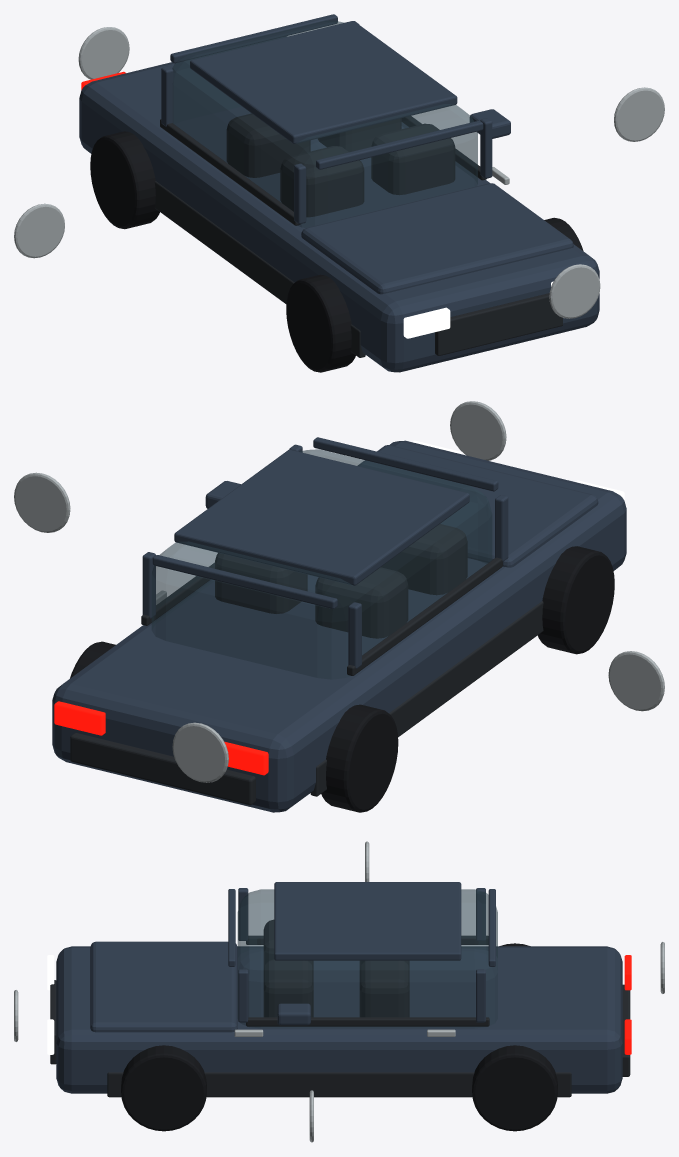
File: premium-sedan.glb
3 renders of one model, top to bottom at view 1: azimuth 30°, elevation 25°; view 2: azimuth 150°, elevation 25°; view 3: azimuth 270°, elevation 25°, orthographic. The views are drawn at different scales.
Visible parts, largest first — view 1: BATCH_01_MAT_CarPaint_premium-sedan, BATCH_00_MAT_BlackMetal, BATCH_03_MAT_Glass, wheel_rear_L.004, wheel_front_L.004, hub_front_L.004, hub_front_R.004, hub_rear_L.004, hub_rear_R.004, BATCH_05_MAT_WhiteLight; view 2: BATCH_01_MAT_CarPaint_premium-sedan, BATCH_03_MAT_Glass, BATCH_00_MAT_BlackMetal, wheel_front_L.004, wheel_rear_L.004, hub_rear_L.004, hub_rear_R.004, hub_front_R.004, hub_front_L.004, BATCH_04_MAT_RedLight; view 3: BATCH_01_MAT_CarPaint_premium-sedan, BATCH_03_MAT_Glass, BATCH_00_MAT_BlackMetal, wheel_front_R.004, wheel_rear_R.004, BATCH_04_MAT_RedLight, BATCH_05_MAT_WhiteLight, BATCH_02_MAT_Chrome.
Boxes of the visible parts, x1,y1,x2,y2 form: BATCH_01_MAT_CarPaint_premium-sedan: (79, 14, 599, 372); BATCH_00_MAT_BlackMetal: (154, 113, 562, 357); BATCH_03_MAT_Glass: (172, 20, 477, 227); wheel_rear_L.004: (90, 131, 159, 229); wheel_front_L.004: (286, 274, 355, 372); hub_front_L.004: (549, 264, 600, 318); hub_front_R.004: (614, 87, 664, 141); hub_rear_L.004: (14, 203, 64, 258); hub_rear_R.004: (78, 27, 129, 79); BATCH_05_MAT_WhiteLight: (403, 281, 553, 338); BATCH_01_MAT_CarPaint_premium-sedan: (52, 437, 626, 812); BATCH_03_MAT_Glass: (151, 449, 492, 679); BATCH_00_MAT_BlackMetal: (70, 524, 543, 805); wheel_front_L.004: (537, 546, 614, 654); wheel_rear_L.004: (321, 704, 398, 812); hub_rear_L.004: (608, 651, 664, 711); hub_rear_R.004: (172, 722, 228, 782); hub_front_R.004: (14, 472, 70, 532); hub_front_L.004: (450, 401, 506, 460); BATCH_04_MAT_RedLight: (54, 701, 268, 775); BATCH_01_MAT_CarPaint_premium-sedan: (56, 882, 622, 1093); BATCH_03_MAT_Glass: (237, 889, 497, 1028); BATCH_00_MAT_BlackMetal: (50, 919, 630, 1097); wheel_front_R.004: (121, 1045, 206, 1131); wheel_rear_R.004: (472, 1045, 557, 1131); BATCH_04_MAT_RedLight: (624, 955, 631, 1054); BATCH_05_MAT_WhiteLight: (47, 955, 54, 1054); BATCH_02_MAT_Chrome: (234, 1029, 455, 1036).
Size of the model in its own units: 5.38 by 1.47 by 5.46.
